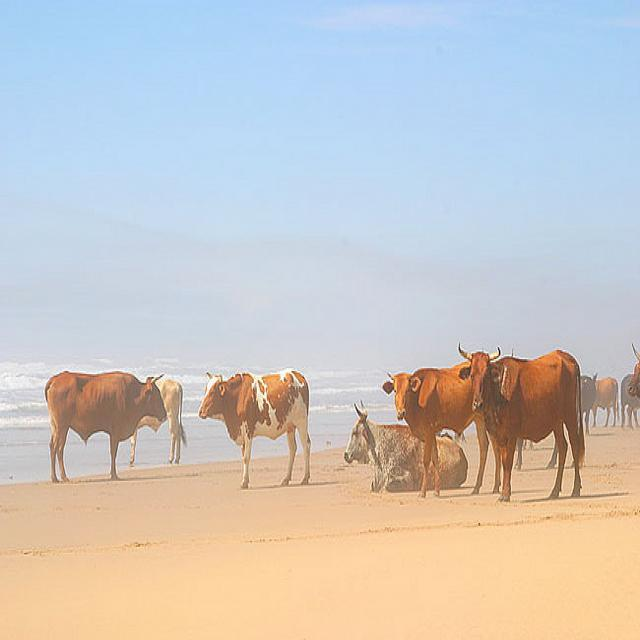cow: (456, 341, 584, 500), (381, 358, 503, 499), (42, 361, 166, 488), (196, 367, 310, 484), (343, 397, 466, 490), (129, 379, 186, 464), (588, 374, 618, 425), (579, 370, 596, 433), (620, 373, 639, 428), (627, 341, 639, 398)
